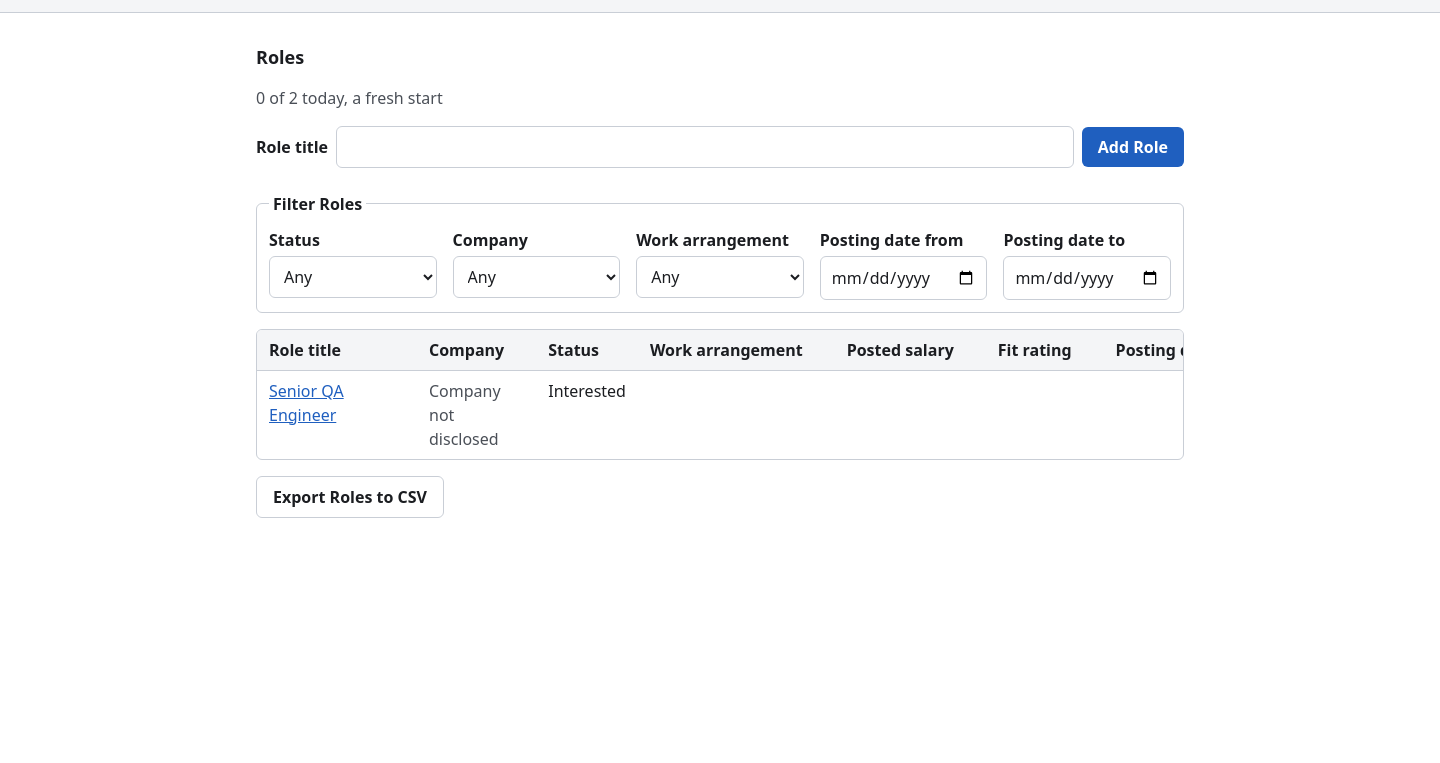
Scenario: Role contacts on the Role detail page › Given Priya is the recruiter on a Role, when I remove her from it, then the Role lists no Contacts and Priya is kept
Click the link "Senior QA Engineer".
click(306, 391)  # box [269,380,344,426]
(page scrolled)
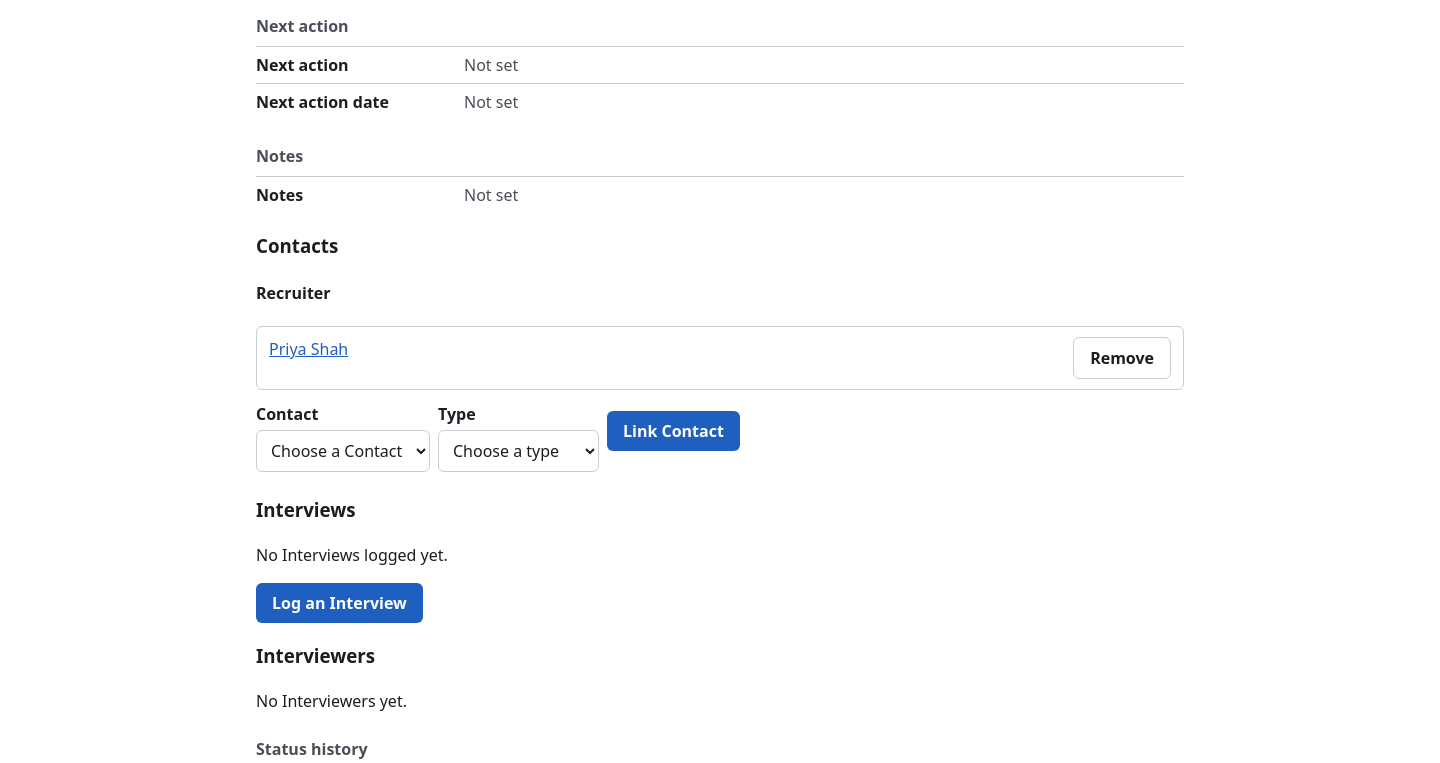
Click the button with aria-label "Remove Priya Shah as recruiter".
click(1122, 358)  # box [1073,337,1171,379]
(page scrolled)
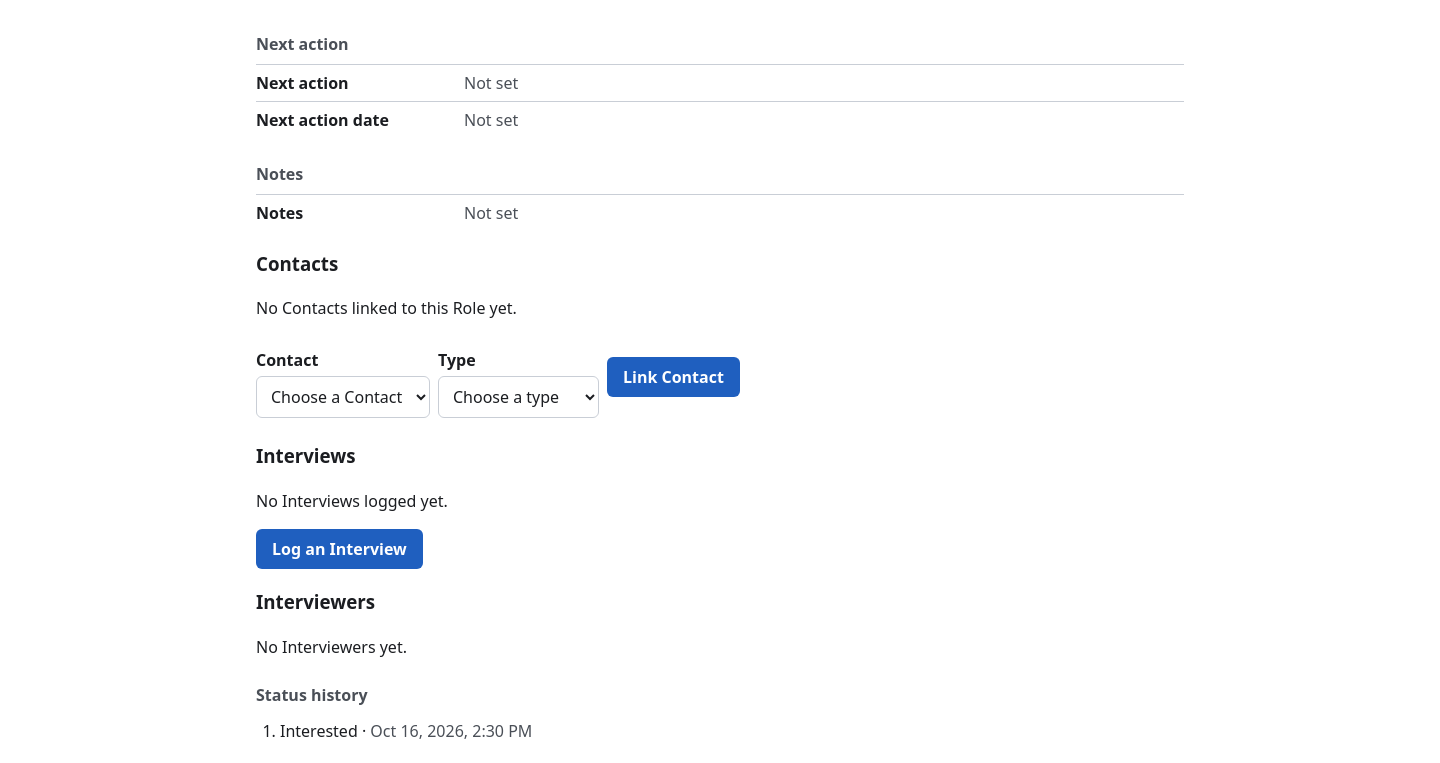
expect the text "No Contacts linked to this Role yet." is shown: met, box [256,298,517,320]
